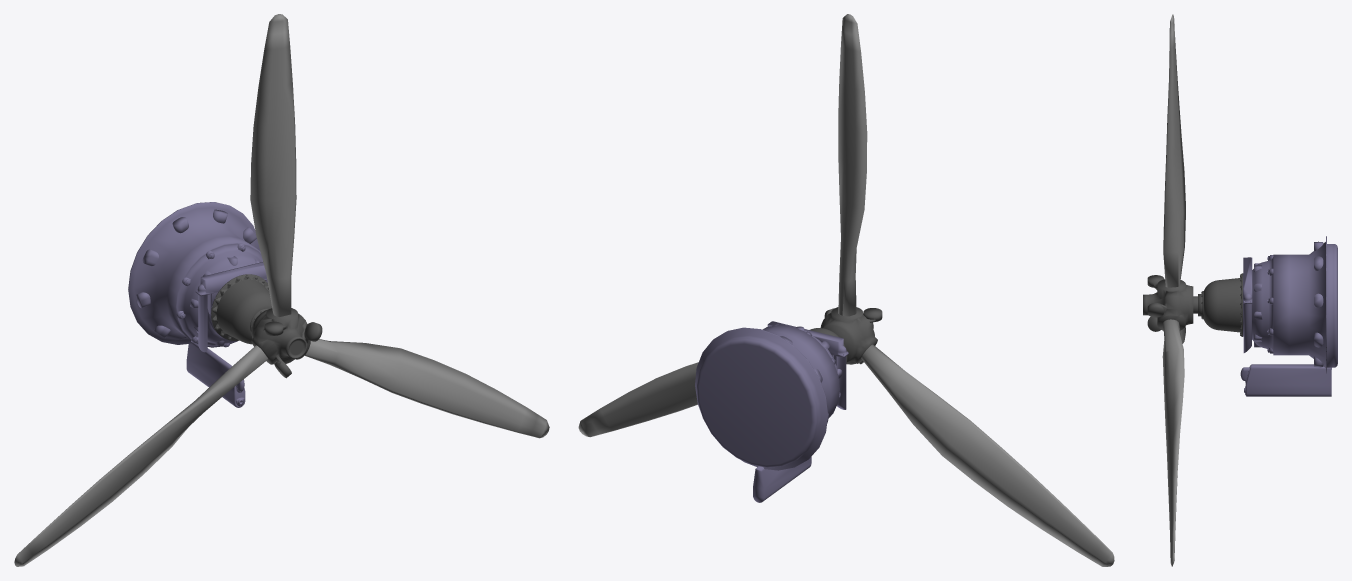
Rendered from Motore.fbx.
3 views of the same model, side by side, from view 1: azimuth 30°, elevation 25°; view 2: azimuth 150°, elevation 25°; view 3: azimuth 270°, elevation 25° (orthographic). The views are drawn at different scales.
Visible parts, largest first — view 1: Sostegno, Elica3, Elica1, Elica2, Rotore.001; view 2: Sostegno, Elica2, Elica3, Elica1, Rotore.001; view 3: Sostegno, Rotore.001, Elica3, Elica1.
Boxes of the visible parts, x1,y1,x2,y2 form: Sostegno: (128,202,267,407); Elica3: (250,14,296,316); Elica1: (305,339,549,438); Elica2: (14,345,267,566); Rotore.001: (211,274,322,378); Sostegno: (695,321,848,502); Elica2: (861,344,1114,566); Elica3: (838,14,867,316); Elica1: (578,362,698,437); Rotore.001: (810,307,882,364); Sostegno: (1240,236,1337,396); Rotore.001: (1143,273,1242,336); Elica3: (1163,14,1185,287); Elica1: (1162,319,1184,566).
Size of the model in its own units: 223 by 195 by 78.44.
